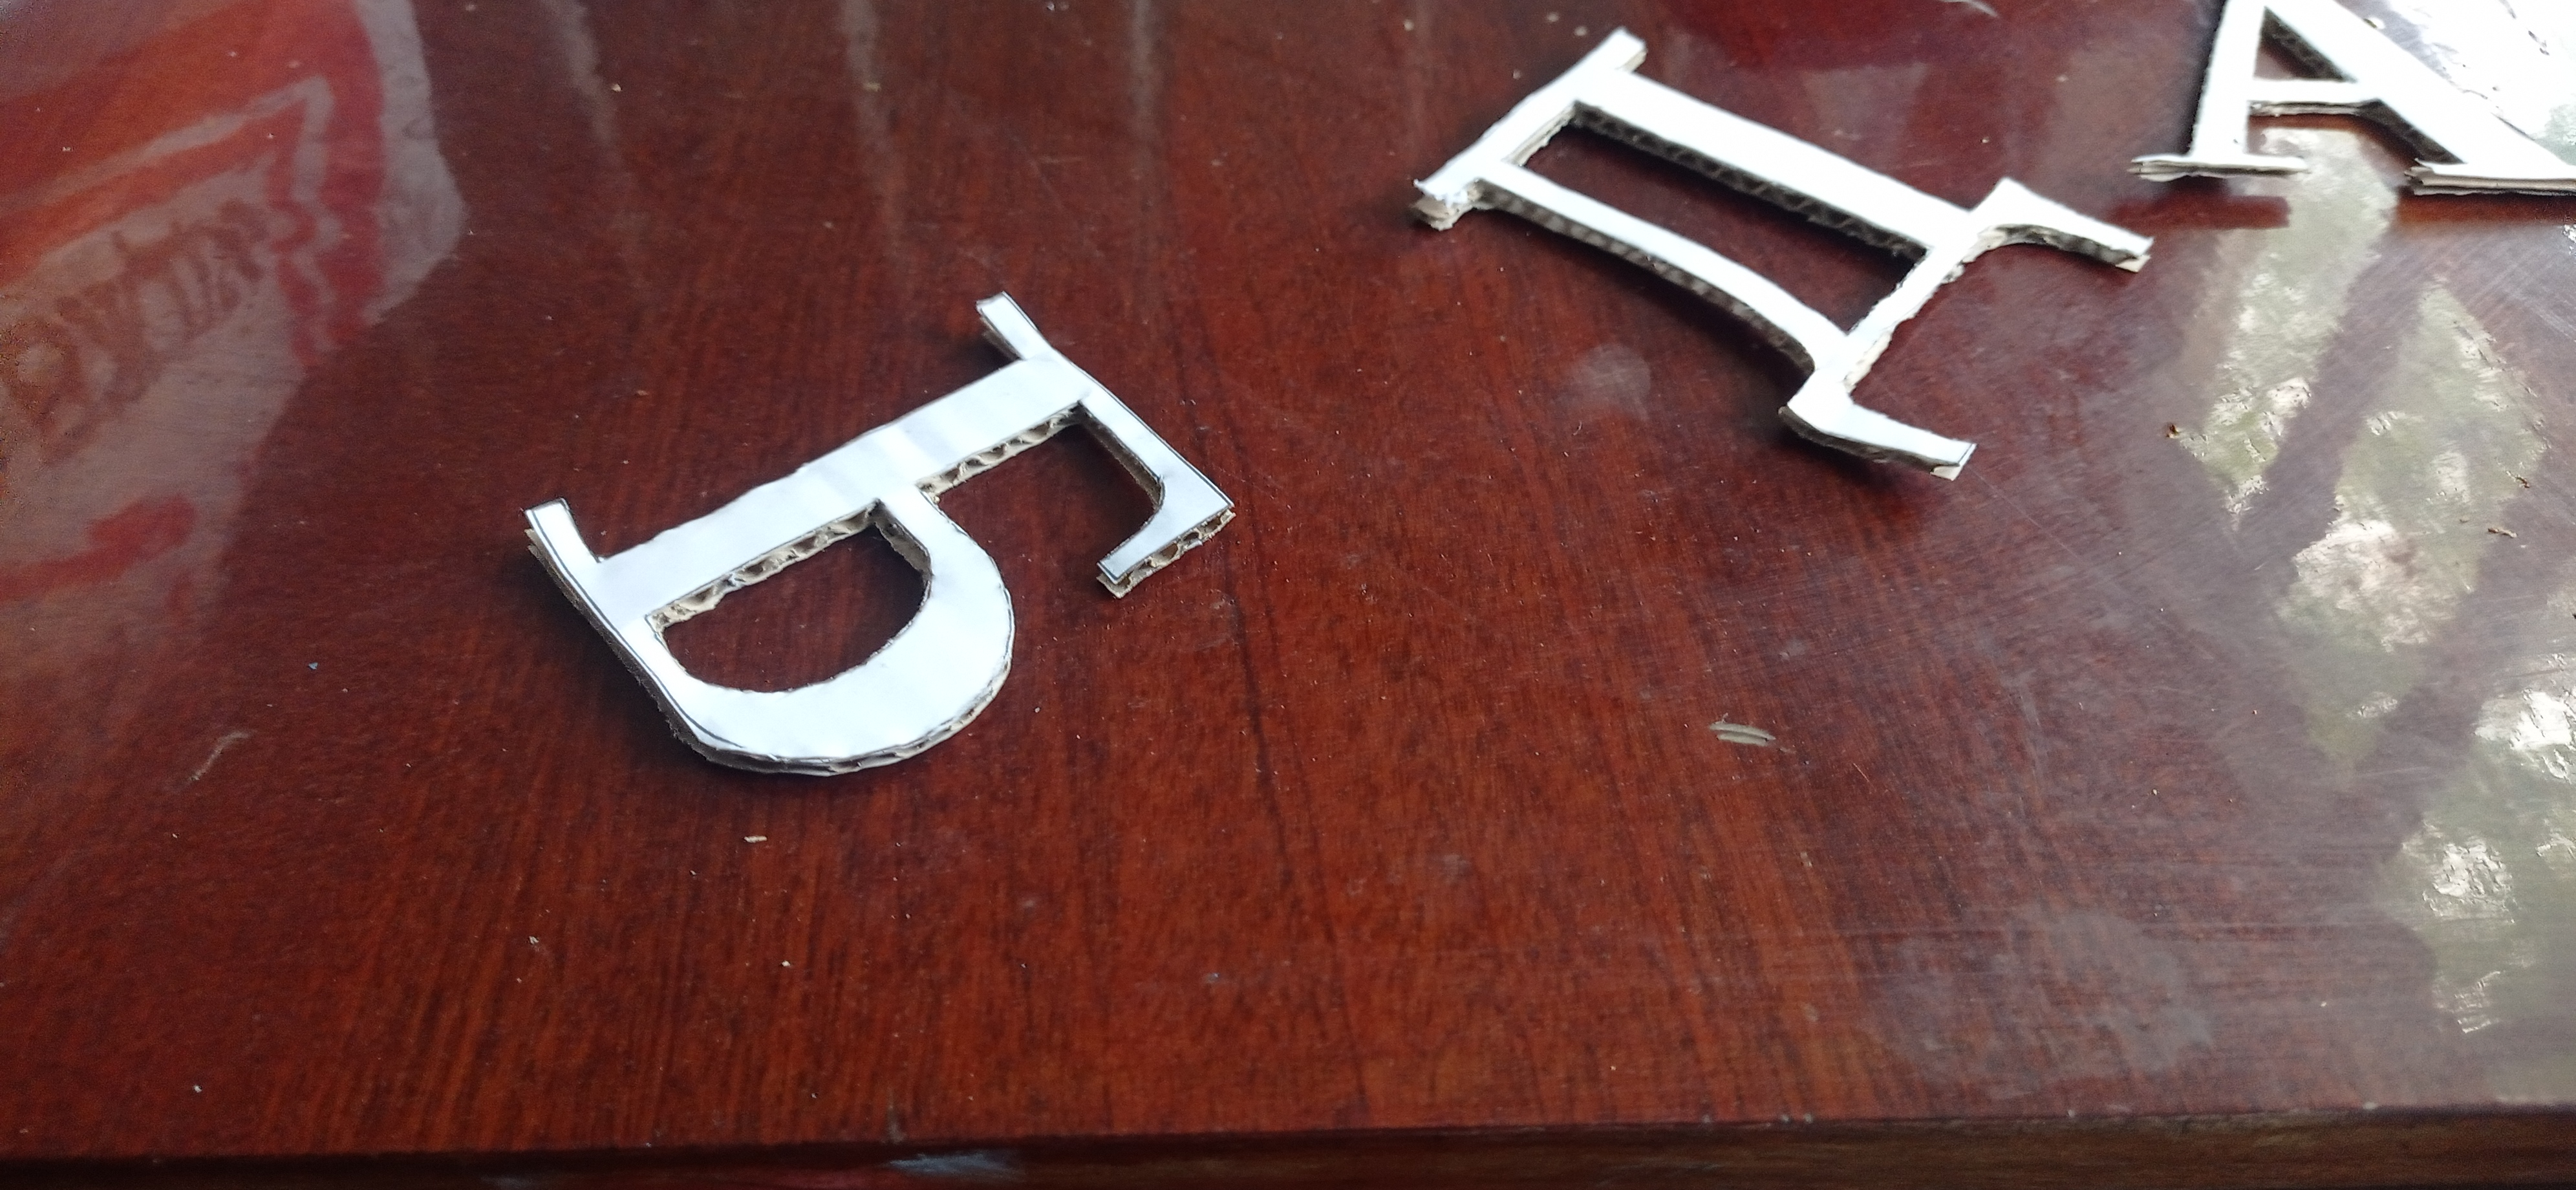a: (2142, 0, 2573, 199)
b: (514, 293, 1237, 786)
d: (1405, 25, 2152, 480)
